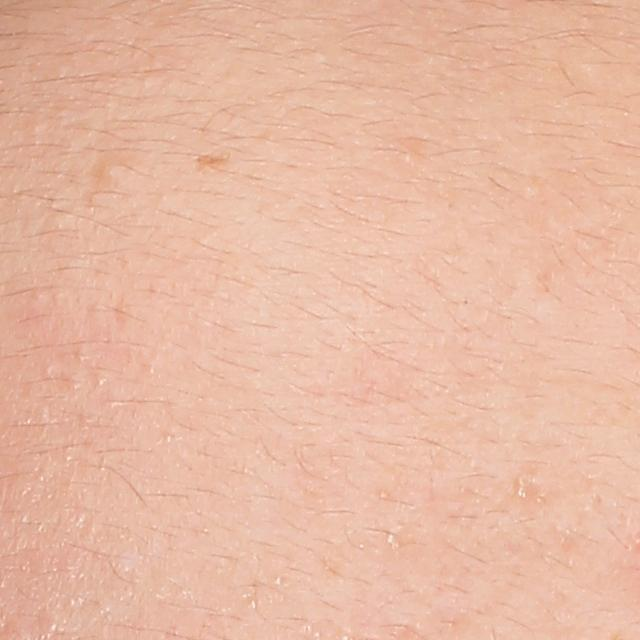atrophic_scar: (194, 152, 227, 170)
comedo: (91, 160, 121, 190)
